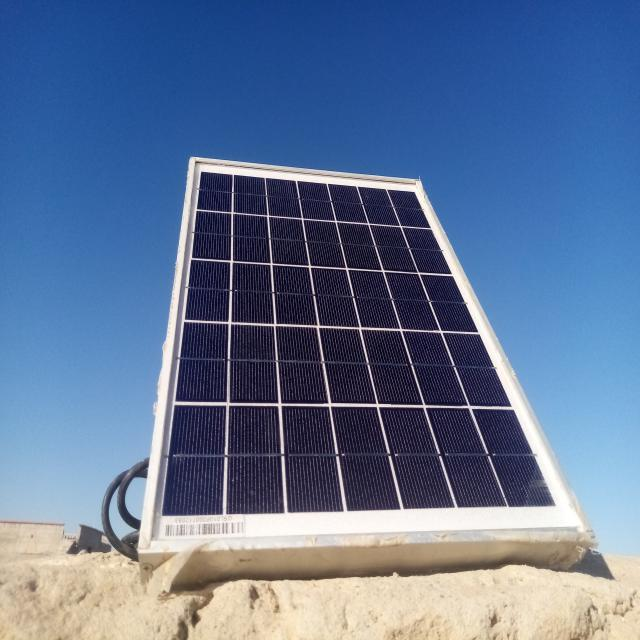no faulty: (140, 156, 596, 551)
